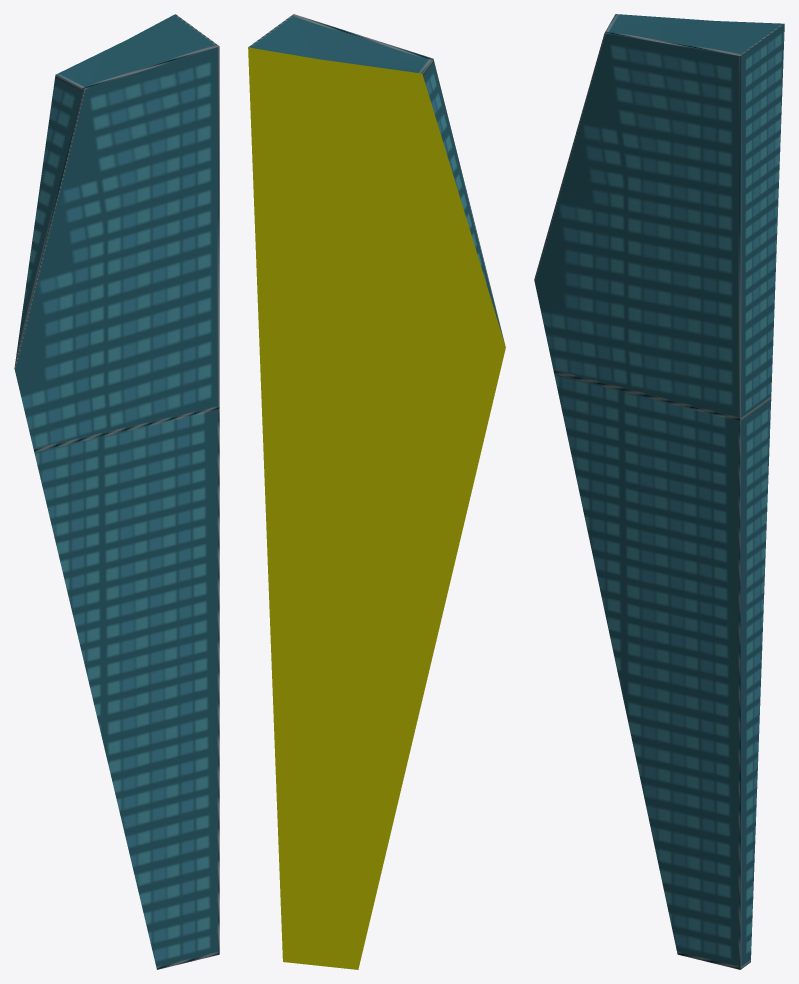
The model's file is boAShard2.fbx.
3 views of the same model, side by side, from view 1: azimuth 30°, elevation 25°; view 2: azimuth 150°, elevation 25°; view 3: azimuth 330°, elevation 25° (orthographic). The views are drawn at different scales.
Parts seen in each view (by area): view 1: shard57; view 2: shard57; view 3: shard57.
Boxes of the visible parts, x1=… form: shard57: x1=14, y1=14, x2=219, y2=969; shard57: x1=248, y1=14, x2=505, y2=969; shard57: x1=534, y1=14, x2=784, y2=969.
Size of the model in its own units: 0.0838 by 0.3546 by 0.0312.
Materials: 2 (1 with a texture image).
